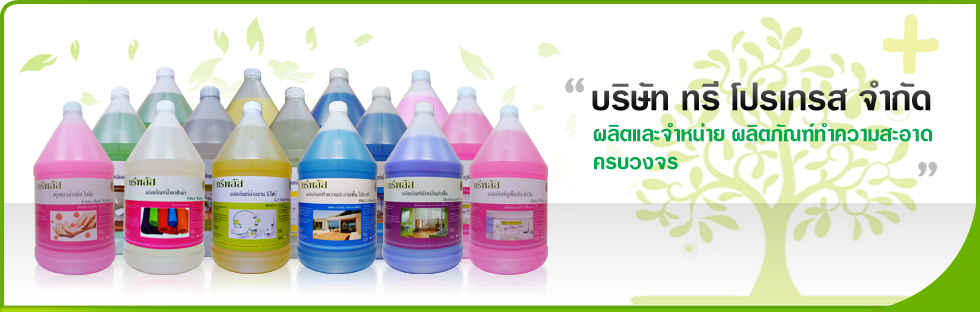Cleaning_solution: (119, 95, 214, 276), (29, 94, 120, 277), (382, 94, 471, 281), (466, 100, 557, 279), (294, 97, 383, 279), (206, 94, 295, 273)
